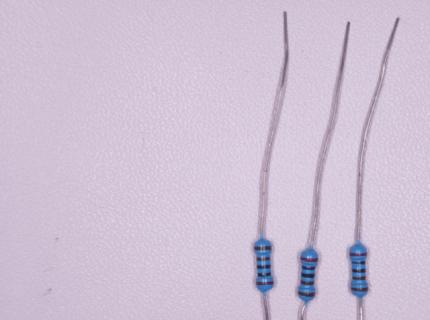Black band: (301, 272, 315, 278), (257, 272, 271, 277), (257, 264, 271, 269), (301, 265, 315, 270), (352, 268, 366, 273), (352, 261, 366, 265)
Brown band: (298, 291, 315, 297), (254, 246, 272, 251), (351, 287, 368, 292), (300, 280, 314, 285), (352, 276, 366, 280), (257, 257, 270, 261)
Red band: (300, 257, 318, 263), (349, 252, 367, 257), (256, 281, 274, 285)
